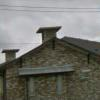Chimney: (31, 18, 65, 48)
